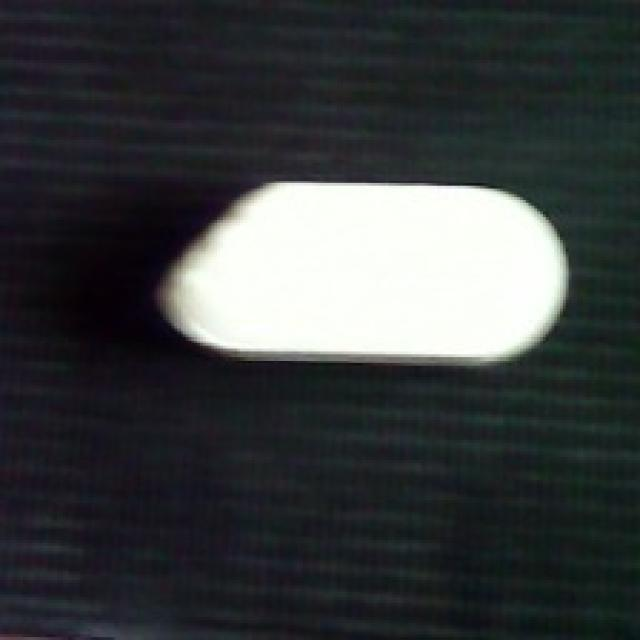defected: (155, 172, 574, 372)
